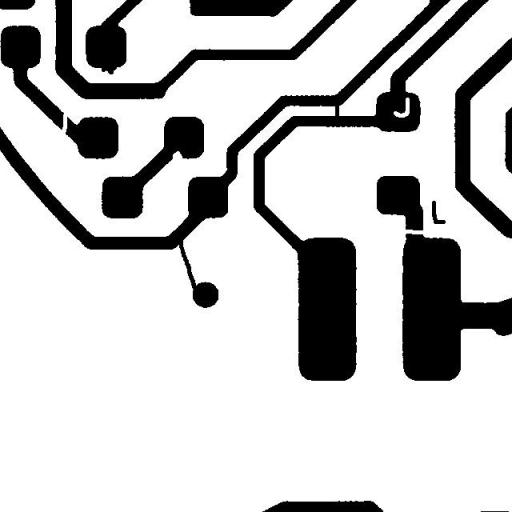copper: (424, 193, 453, 231)
mousebite: (164, 143, 190, 169)
open: (53, 106, 74, 146), (394, 222, 436, 242)
pin-hole: (386, 90, 416, 124)
short: (171, 230, 205, 298), (328, 90, 346, 126)
spur: (94, 55, 124, 82)
